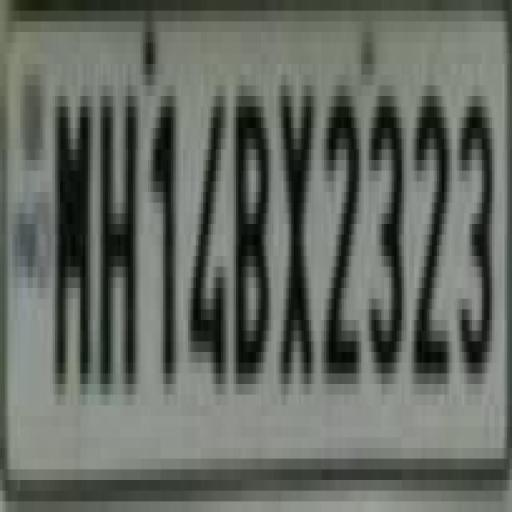number plate: (22, 20, 511, 480)
